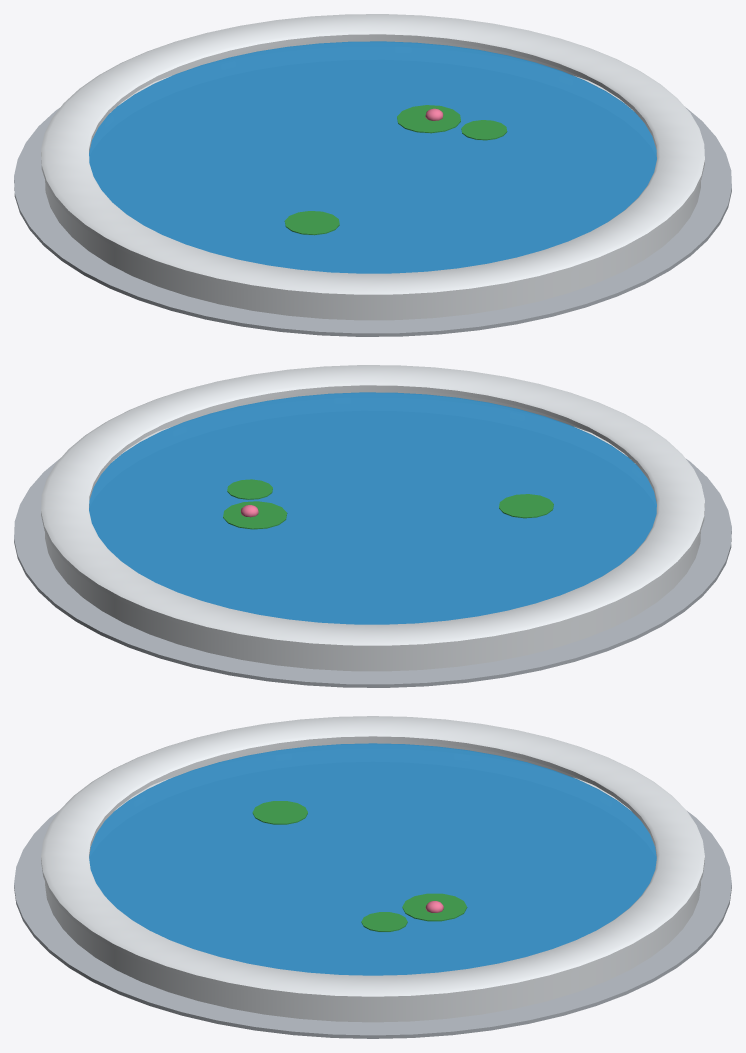
Rendered from espelho_dagua_redondo.glb.
The picture shows the model from 3 angles, top to bottom: view 1: azimuth 30°, elevation 25°; view 2: azimuth 150°, elevation 25°; view 3: azimuth 270°, elevation 25°; orthographic projection.
Parts seen in each view (by area): view 1: espelho_dagua_redondo; view 2: espelho_dagua_redondo; view 3: espelho_dagua_redondo.
Boxes of the visible parts, bbox=[...] form: espelho_dagua_redondo: bbox=[14, 14, 731, 336]; espelho_dagua_redondo: bbox=[14, 365, 731, 687]; espelho_dagua_redondo: bbox=[14, 716, 731, 1038].
Size of the model in its own units: 9.3 by 0.47 by 9.3.
Materials: 3 (1 with a texture image).
